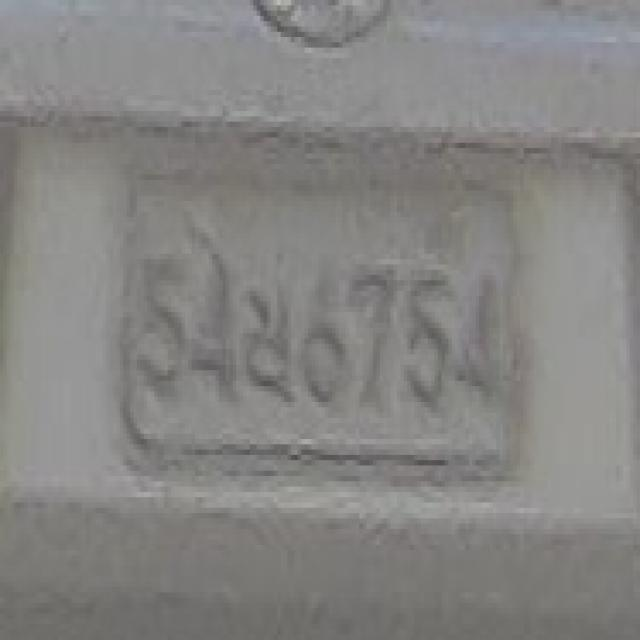4: (452, 238, 513, 439), (185, 227, 243, 418)
5: (397, 233, 459, 428), (140, 243, 192, 408)
6: (294, 238, 349, 434)
7: (342, 206, 408, 439)
leo: (240, 259, 304, 402)
license_plate: (110, 153, 530, 502)
